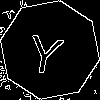Y: (25, 25, 67, 76)
